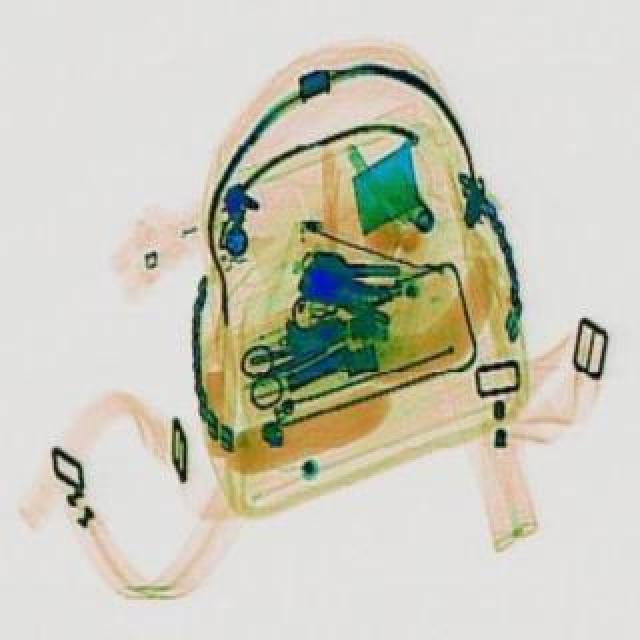pliers: (230, 308, 364, 408)
